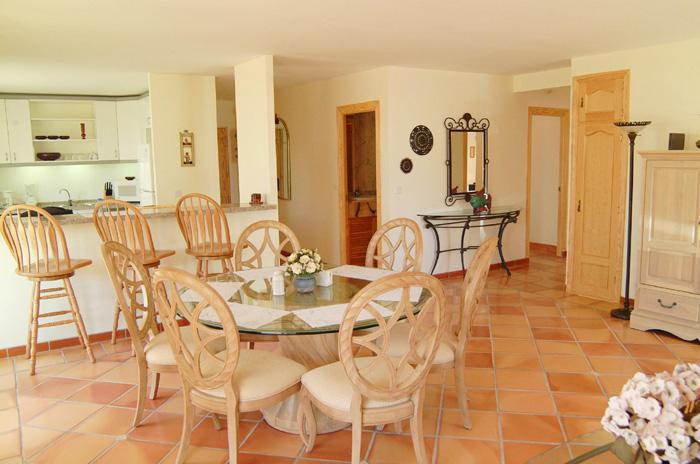Puerta: (574, 81, 619, 299)
